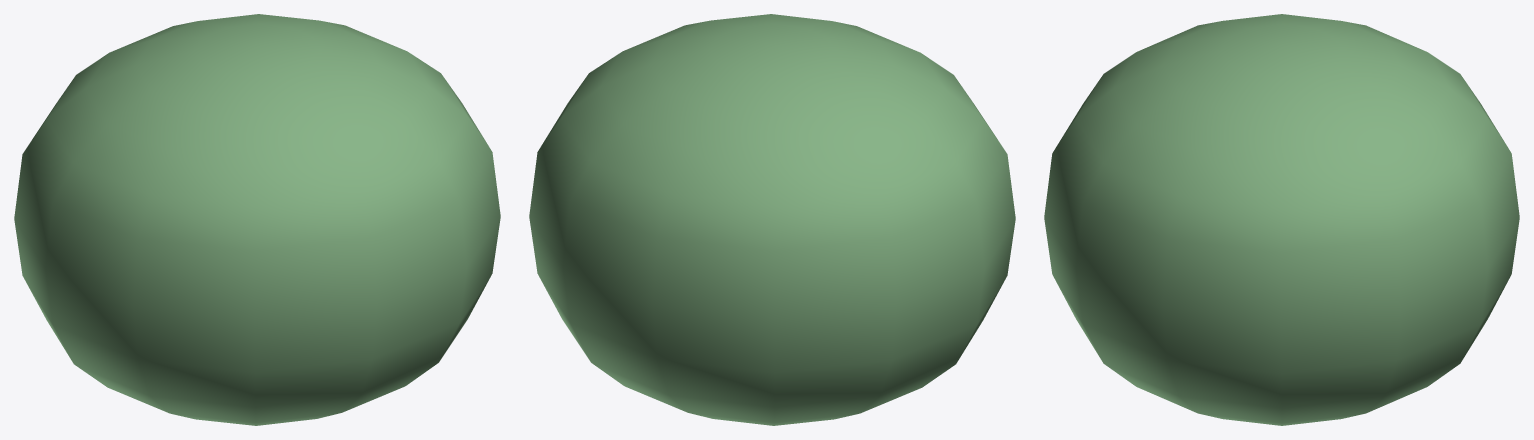
File: MochiGreen.fbx
3 renders of one model, left to right at view 1: azimuth 30°, elevation 25°; view 2: azimuth 150°, elevation 25°; view 3: azimuth 270°, elevation 25°, orthographic.
Visible parts, largest first — view 1: sm_mochi_green; view 2: sm_mochi_green; view 3: sm_mochi_green.
Part boxes in pixels (bbox=[...]): sm_mochi_green: bbox=[14, 14, 500, 425]; sm_mochi_green: bbox=[529, 14, 1015, 425]; sm_mochi_green: bbox=[1044, 14, 1519, 425].
Bounding box in the file's own units: 27.57 × 21.76 × 26.91.
